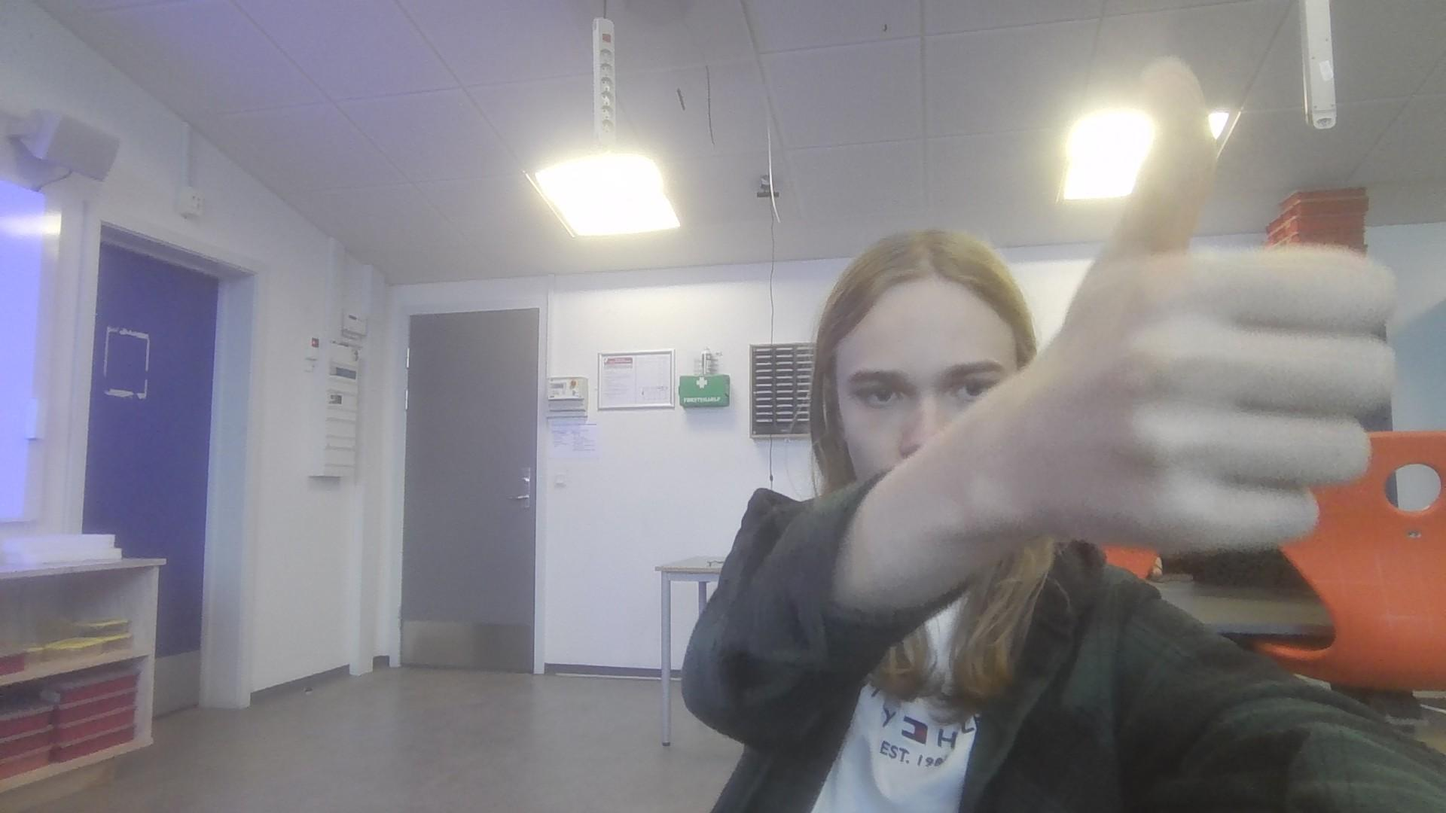thumbs up: (1032, 61, 1401, 572)
